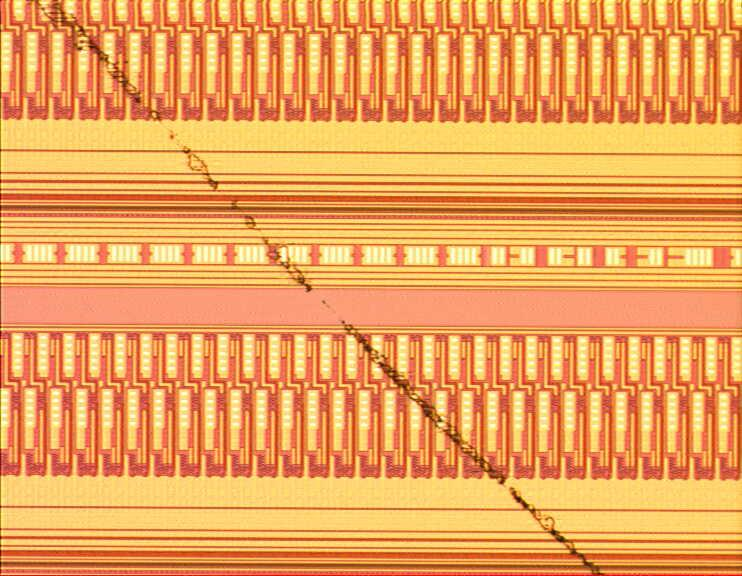SCRATCH: (30, 1, 613, 576)
